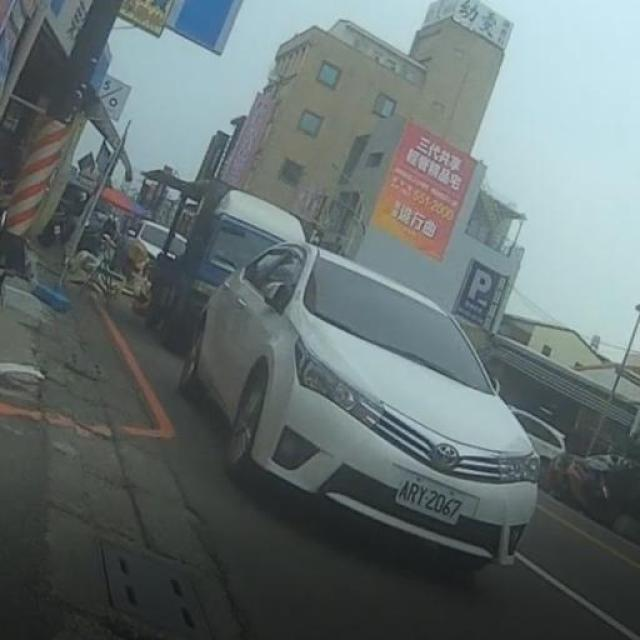Legalparking: (140, 171, 538, 570)
